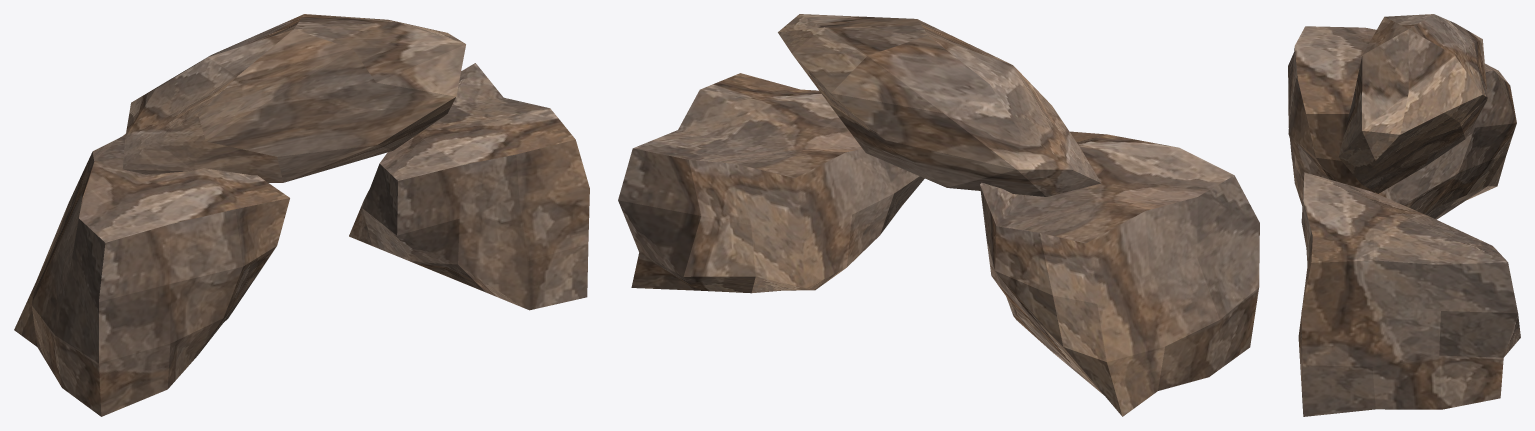
The model's file is waterfall-rock-frame.glb.
3 views of the same model, side by side, from view 1: azimuth 30°, elevation 25°; view 2: azimuth 150°, elevation 25°; view 3: azimuth 270°, elevation 25° (orthographic). The views are drawn at different scales.
Parts seen in each view (by area): view 1: wfL, wfT, wfR; view 2: wfL, wfR, wfT; view 3: wfR, wfT, wfL.
Part boxes in pixels (x1,y1,x2,y2): wfL: (14,133,289,416); wfT: (122,14,465,182); wfR: (349,63,589,310); wfL: (980,131,1259,416); wfR: (618,73,924,293); wfT: (778,14,1101,196); wfR: (1298,172,1520,416); wfT: (1338,14,1487,193); wfL: (1288,26,1516,219).
Size of the model in its own units: 5.23 by 2.84 by 2.18.
1 material, 1 textured.
